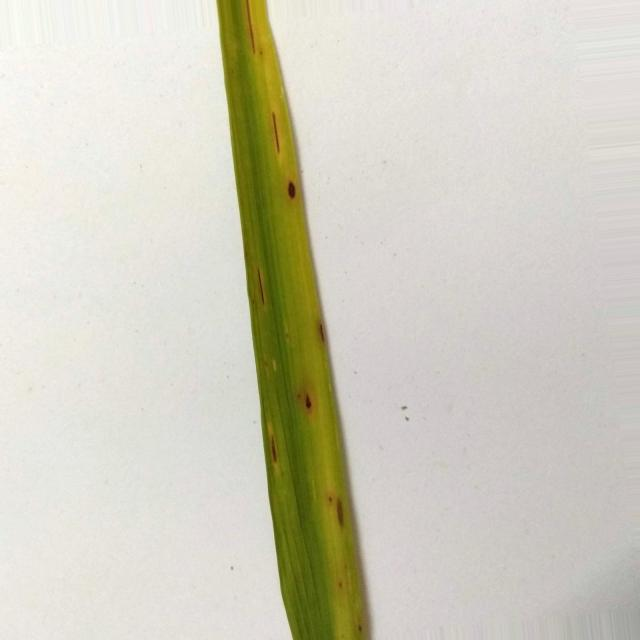Brown_Spot: (245, 0, 255, 53), (272, 112, 280, 152), (258, 269, 265, 303), (271, 436, 278, 462), (338, 499, 344, 527), (319, 322, 325, 342), (288, 182, 295, 198), (305, 395, 311, 409), (339, 581, 342, 589), (359, 625, 362, 632), (329, 496, 332, 502)
